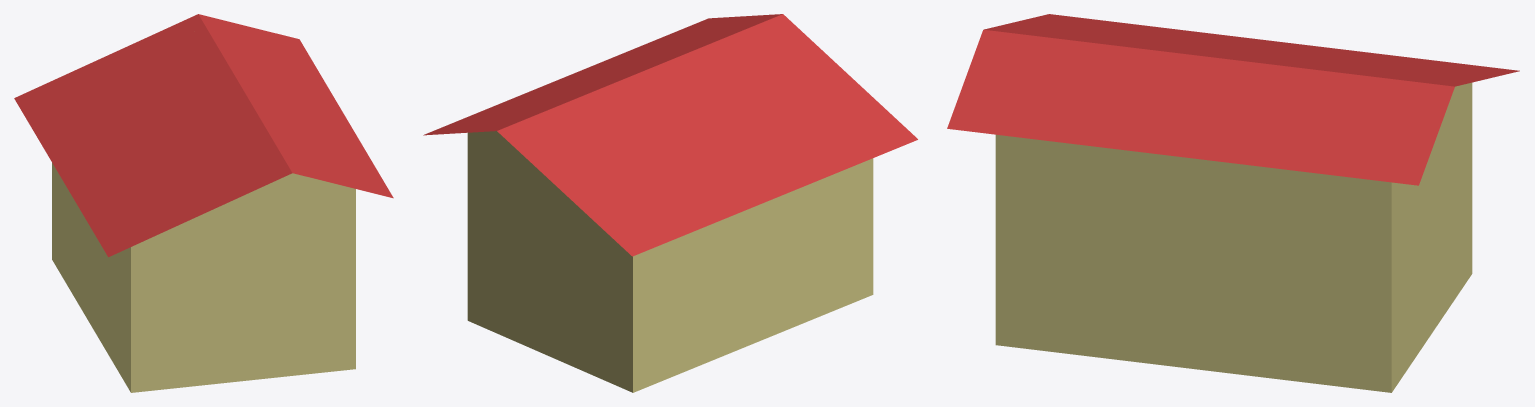
The picture shows the model from 3 angles, left to right: view 1: azimuth 30°, elevation 25°; view 2: azimuth 150°, elevation 25°; view 3: azimuth 270°, elevation 25°; orthographic projection. The views are drawn at different scales.
Visible parts, largest first — view 1: group_3, group_5; view 2: group_5, group_3; view 3: group_5, group_3.
Boxes of the visible parts, bbox=[...] form: group_3: bbox=[14, 14, 393, 257]; group_5: bbox=[52, 163, 355, 392]; group_5: bbox=[467, 131, 873, 392]; group_3: bbox=[423, 14, 917, 256]; group_5: bbox=[995, 82, 1472, 392]; group_3: bbox=[947, 14, 1519, 185].
Bounding box in the file's own units: 12.51 × 14.58 × 7.66.
